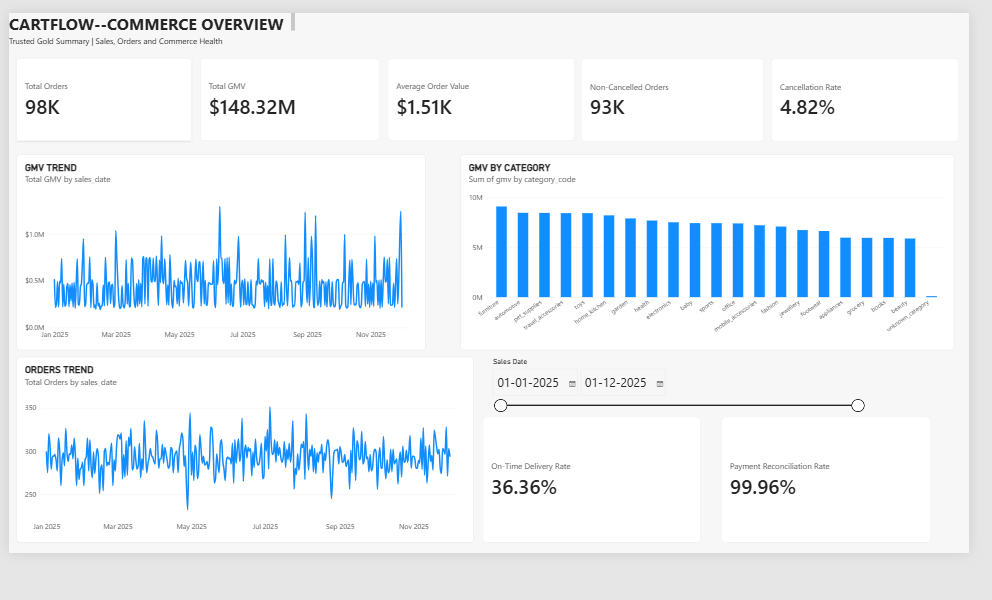

The page's visual inventory and layout, read from the dashboard file:
{"tool":"powerbi","page":{"name":"Page 1","canvas":[1920,1080],"ordinal":0},"visuals":[{"type":"cardVisual","fields":{"Data":["agg_sales_daily.Total Orders"]},"box":[14,90,350,166],"z":0},{"type":"cardVisual","fields":{"Data":["agg_sales_daily.Total GMV"]},"box":[382,90,358,166],"z":1000},{"type":"cardVisual","fields":{"Data":["agg_sales_daily.Average Order Value"]},"box":[758,90,374,166],"z":2000},{"type":"cardVisual","fields":{"Data":["agg_sales_daily.Non-Cancelled Orders"]},"box":[1146,90,364,168],"z":3000},{"type":"cardVisual","fields":{"Data":["agg_sales_daily.Cancellation Rate"]},"box":[1526,90,374,168],"z":4000},{"type":"textbox","box":[0,0,572,46],"z":5000},{"type":"textbox","box":[0,46,496,48],"z":6000},{"type":"lineChart","title":"GMV TREND","fields":{"Category":["agg_sales_daily.sales_date"],"Y":["agg_sales_daily.Total GMV"]},"box":[14,282,818,392],"z":7000},{"type":"lineChart","title":"ORDERS TREND","fields":{"Category":["agg_sales_daily.sales_date"],"Y":["agg_sales_daily.Total Orders"]},"box":[14,688,914,372],"z":8000},{"type":"clusteredColumnChart","title":"GMV BY CATEGORY","fields":{"Category":["agg_category_sales.category_code"],"Y":["Sum(agg_category_sales.gmv)"]},"box":[854,282,988,392],"z":9000},{"type":"cardVisual","fields":{"Data":["agg_delivery_delay.On-Time Delivery Rate"]},"box":[960,740,436,252],"z":10000},{"type":"cardVisual","fields":{"Data":["Sum(agg_payment_review.payment_reconciliation_rate)"]},"box":[1424,740,418,252],"z":11000}]}

Visuals, with their boxes on the page's 1920x1080 design canvas (x1, y1, x2, y2). These are canvas units, not pixel positions in the 992x600 screenshot, which may show the page scaled, cropped or inside an application window:
cardVisual - agg_sales_daily.Total Orders: x1=14 y1=90 x2=364 y2=256
cardVisual - agg_sales_daily.Total GMV: x1=382 y1=90 x2=740 y2=256
cardVisual - agg_sales_daily.Average Order Value: x1=758 y1=90 x2=1132 y2=256
cardVisual - agg_sales_daily.Non-Cancelled Orders: x1=1146 y1=90 x2=1510 y2=258
cardVisual - agg_sales_daily.Cancellation Rate: x1=1526 y1=90 x2=1900 y2=258
textbox: x1=0 y1=0 x2=572 y2=46
textbox: x1=0 y1=46 x2=496 y2=94
"GMV TREND" lineChart: x1=14 y1=282 x2=832 y2=674
"ORDERS TREND" lineChart: x1=14 y1=688 x2=928 y2=1060
"GMV BY CATEGORY" clusteredColumnChart: x1=854 y1=282 x2=1842 y2=674
cardVisual - agg_delivery_delay.On-Time Delivery Rate: x1=960 y1=740 x2=1396 y2=992
cardVisual - Sum(agg_payment_review.payment_reconciliation_rate): x1=1424 y1=740 x2=1842 y2=992
